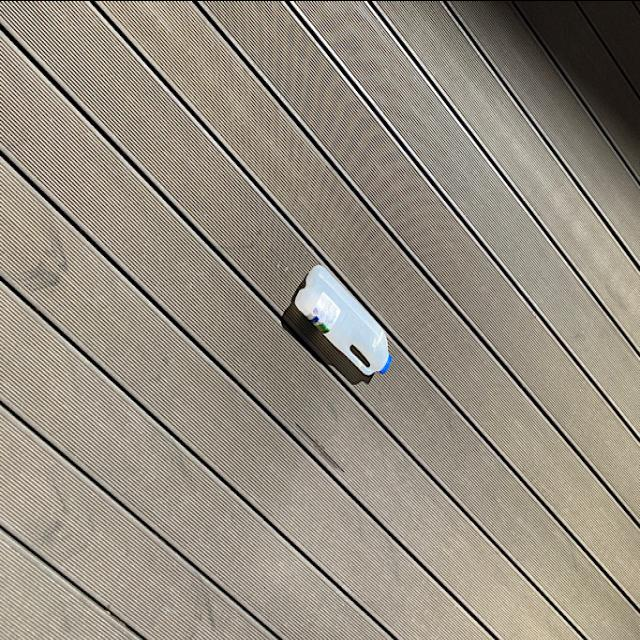HDPEM: (294, 251, 404, 380)
